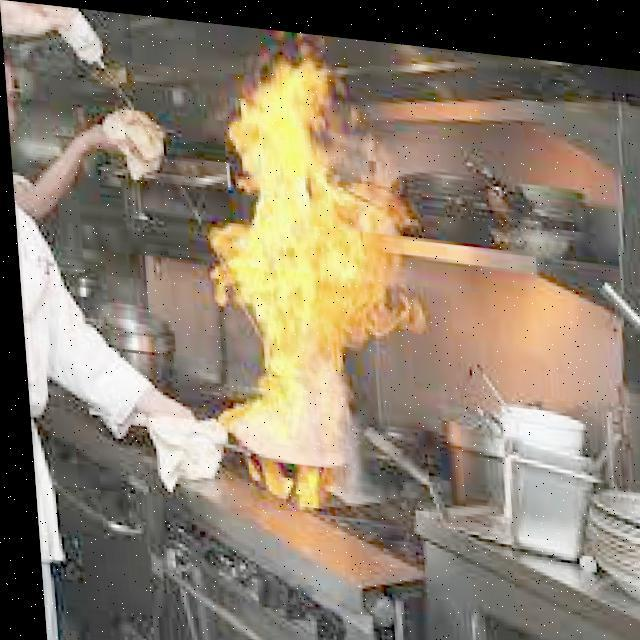Fire: (194, 52, 422, 518)
